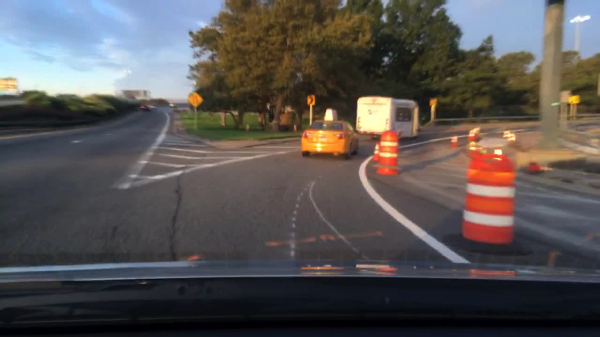car: (301, 108, 359, 161), (355, 96, 420, 140), (140, 104, 152, 112), (149, 104, 157, 110), (168, 103, 177, 108)
traffic sign: (187, 92, 205, 108), (567, 94, 581, 105), (561, 91, 572, 104), (306, 94, 315, 106), (428, 97, 438, 106)
